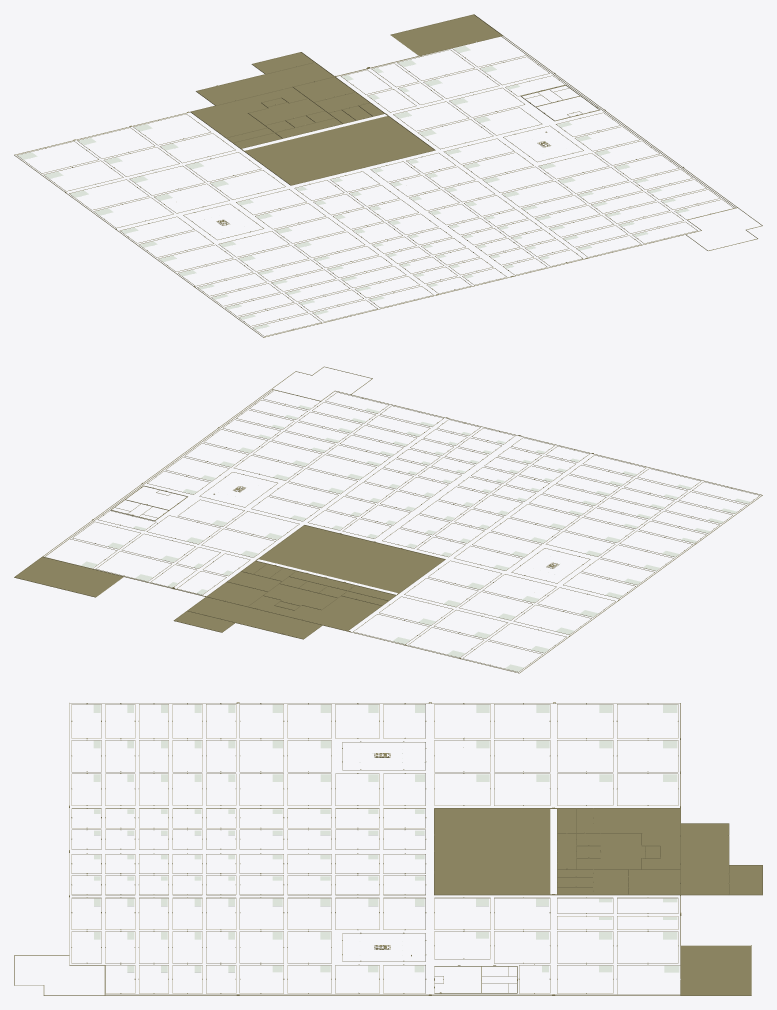
3 renders of one model, top to bottom at view 1: azimuth 30°, elevation 25°; view 2: azimuth 150°, elevation 25°; view 3: azimuth 270°, elevation 25°, orthographic. The views are drawn at different scales.
Visible parts, largest first — view 1: Arc01.028, Arc01.031, Arc01.030, Arc01.014, Arc01.011, Arc01.006; view 2: Arc01.028, Arc01.031, Arc01.030, Arc01.014, Arc01.011, Arc01.006; view 3: Arc01.028, Arc01.031, Arc01.030, Arc01.014, Arc01.011, Arc01.006, Arc01.029.
Part boxes in pixels (x1,y1,x2,y2): Arc01.028: (17, 48, 733, 336); Arc01.031: (191, 77, 383, 148); Arc01.030: (245, 116, 433, 184); Arc01.014: (197, 52, 333, 105); Arc01.011: (391, 15, 501, 55); Arc01.006: (14, 35, 762, 337); Arc01.028: (69, 390, 759, 672); Arc01.031: (208, 561, 395, 630); Arc01.030: (259, 525, 444, 593); Arc01.014: (175, 597, 321, 638); Arc01.011: (15, 557, 123, 596); Arc01.006: (42, 366, 762, 673); Arc01.028: (69, 702, 680, 995); Arc01.031: (557, 809, 680, 894); Arc01.030: (434, 809, 550, 894); Arc01.014: (681, 824, 762, 894); Arc01.011: (681, 945, 750, 994); Arc01.006: (14, 703, 680, 995); Arc01.029: (434, 808, 680, 895).
Bounding box in the file's own units: 9732 × 136 × 10523.
